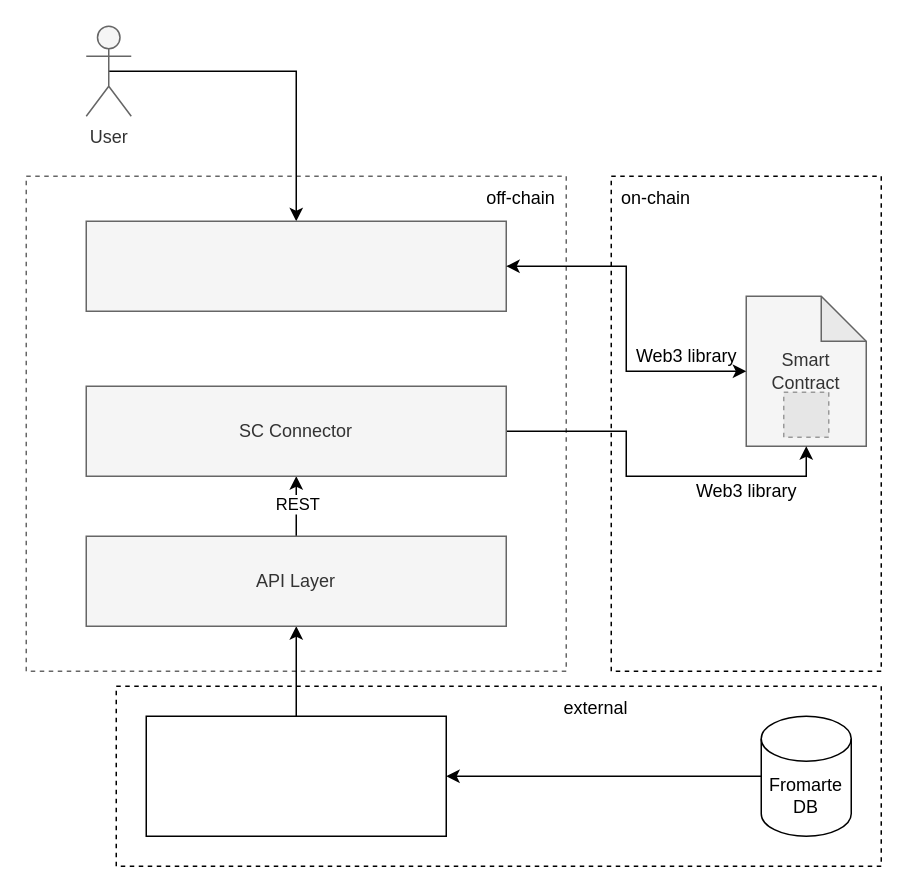
Image size: 908x893. Some labels were removed from this diagram. Grey dashed boxes stand in for pictures. The centre of each missing label's shape, as x and y in pixels:
"Frontend" belongs at pixel 295 265.
"Private Blockchain" belongs at pixel 295 775.
